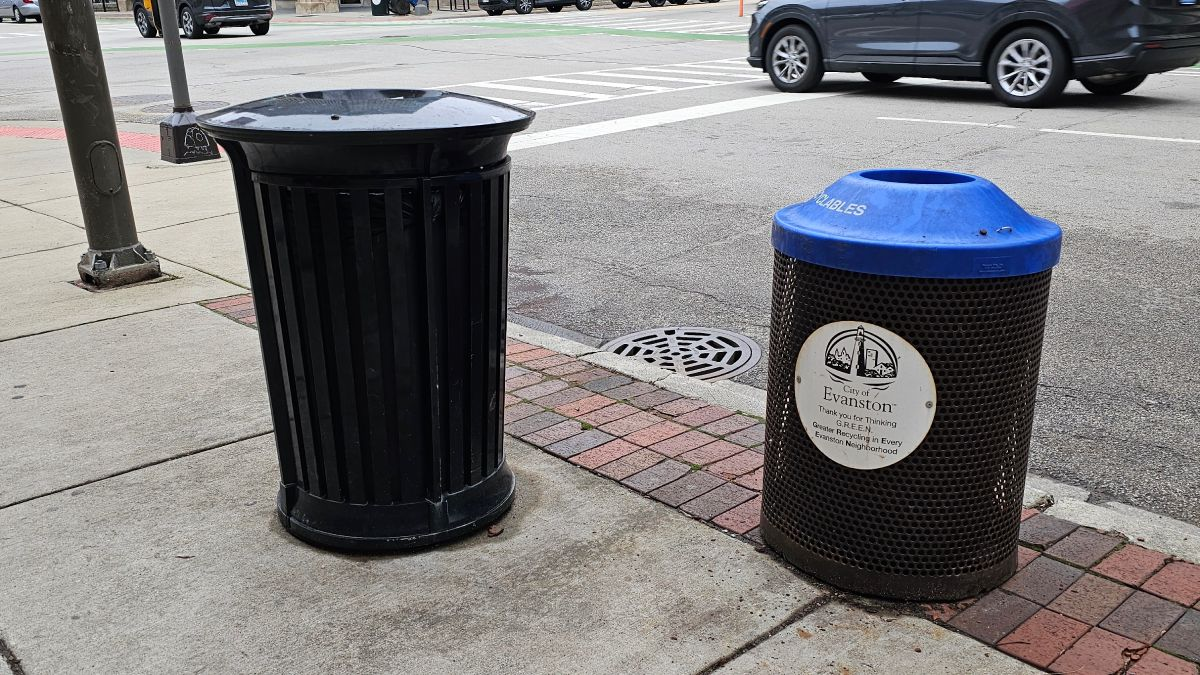TrashBin: (159, 73, 552, 571), (739, 150, 1081, 610)
